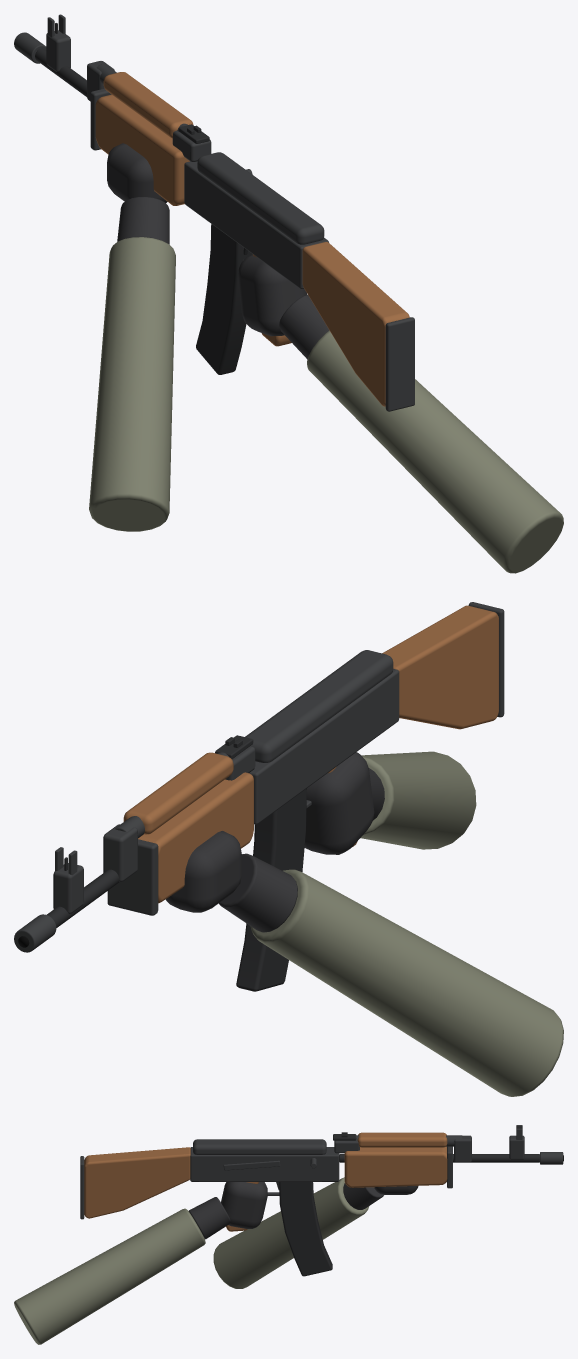
Rendered from wolf.glb.
The picture shows the model from 3 angles, top to bottom: view 1: azimuth 30°, elevation 25°; view 2: azimuth 150°, elevation 25°; view 3: azimuth 270°, elevation 25°; orthographic projection. The views are drawn at different scales.
Parts seen in each view (by area): view 1: SleeveL, SleeveR, Stock, Receiver, MagBody, LowerGuard, DustCover, HandR, ButtPlate, UpperGuard, HandL, WristL (+3 smaller); view 2: SleeveL, Stock, SleeveR, Receiver, LowerGuard, DustCover, HandR, MagBody, HandL, WristL, UpperGuard, GuardBand (+5 smaller); view 3: SleeveR, Stock, SleeveL, LowerGuard, Receiver, MagBody, DustCover, HandR, UpperGuard, WristR, WristL, Barrel (+7 smaller).
Boxes of the visible parts, x1,y1,x2,y2 form: SleeveL: (89, 237, 175, 531); SleeveR: (307, 330, 563, 573); Stock: (302, 242, 409, 406); Receiver: (184, 161, 328, 288); MagBody: (196, 224, 252, 374); LowerGuard: (95, 94, 189, 205); DustCover: (197, 152, 324, 244); HandR: (238, 254, 306, 336); ButtPlate: (385, 317, 414, 411); UpperGuard: (103, 72, 193, 138); HandL: (107, 143, 167, 202); WristL: (117, 197, 169, 244); SleeveL: (250, 869, 563, 1096); Stock: (382, 605, 498, 729); SleeveR: (360, 751, 476, 849); Receiver: (249, 669, 399, 824); LowerGuard: (138, 772, 253, 903); DustCover: (245, 650, 393, 762); HandR: (304, 752, 374, 854); MagBody: (236, 788, 306, 991); HandL: (165, 831, 241, 912); WristL: (219, 853, 297, 932); UpperGuard: (123, 752, 233, 834); GuardBand: (107, 839, 158, 915); SleeveR: (14, 1208, 205, 1344); Stock: (84, 1147, 190, 1218); SleeveL: (213, 1177, 369, 1288); LowerGuard: (344, 1146, 447, 1187); Receiver: (190, 1147, 339, 1181); MagBody: (279, 1182, 332, 1276); DustCover: (193, 1139, 326, 1154); HandR: (221, 1182, 267, 1228); UpperGuard: (357, 1132, 447, 1147); WristR: (189, 1197, 230, 1239); WristL: (343, 1183, 383, 1209); Barrel: (339, 1154, 539, 1162).
Bounding box in the file's own units: 0.4387 × 0.4387 × 1.07.
